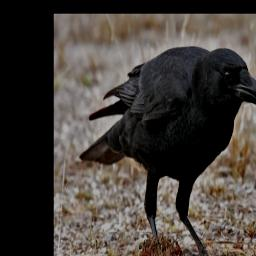Crow: (79, 46, 256, 256)
